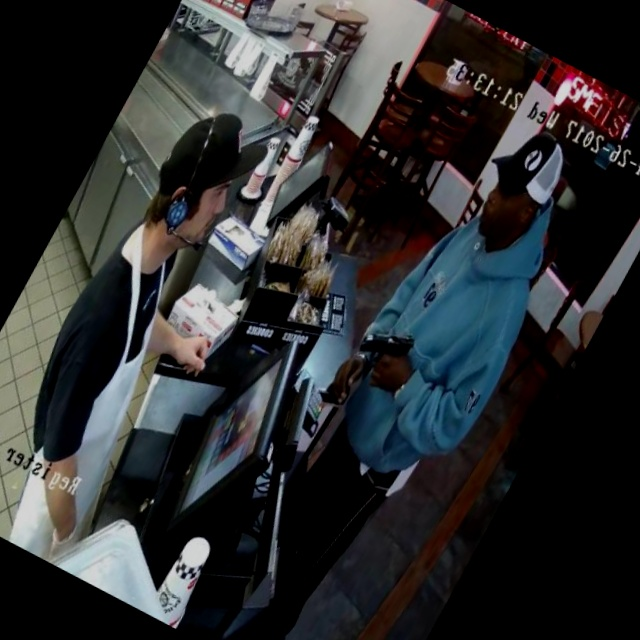gun: (334, 298, 434, 401)
